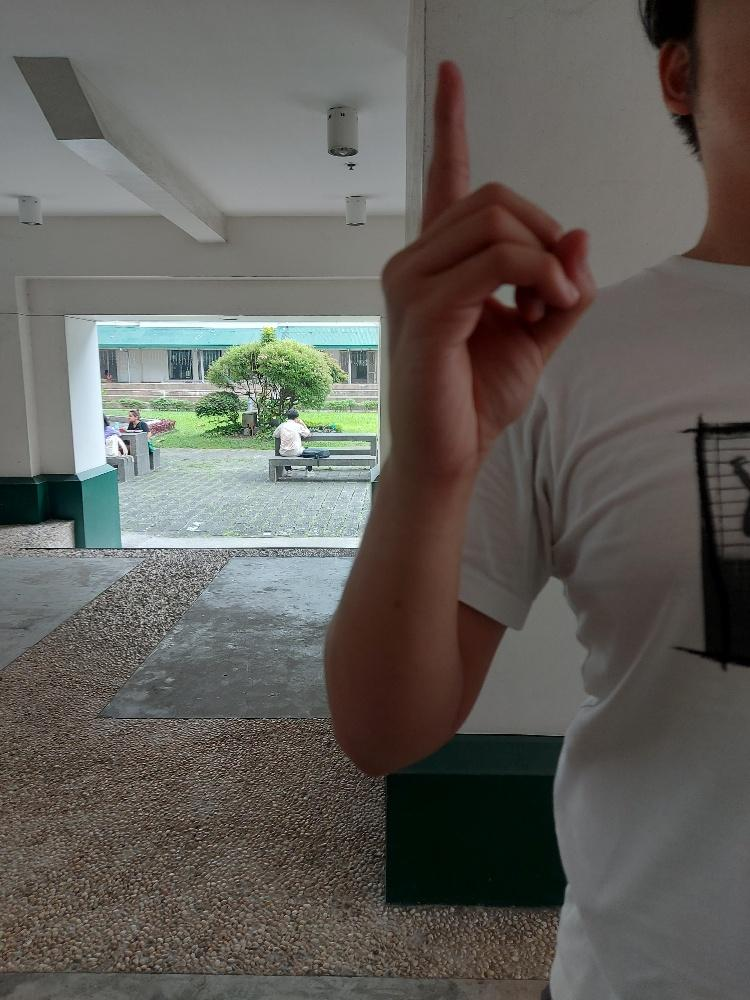d: (377, 53, 600, 480)
